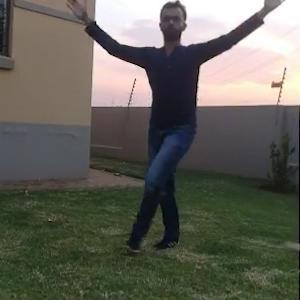takeoff: (65, 0, 281, 258)
